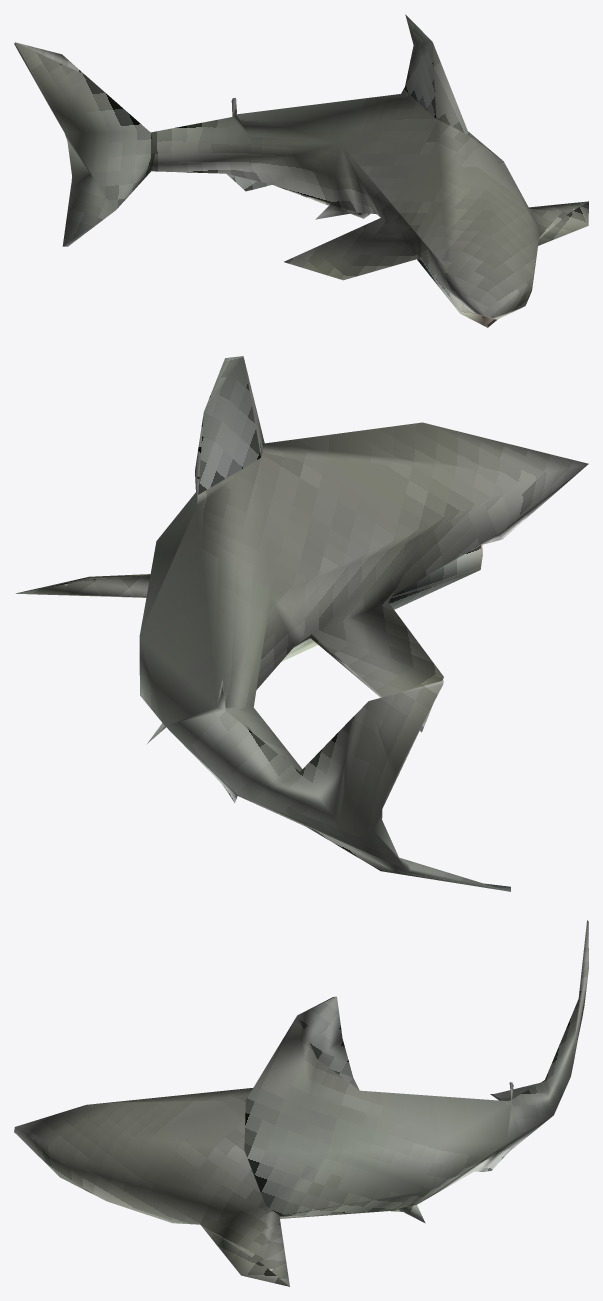
The model's file is Weisshai_Great_White_Shark-low.glb.
The picture shows the model from 3 angles, top to bottom: view 1: azimuth 30°, elevation 25°; view 2: azimuth 150°, elevation 25°; view 3: azimuth 270°, elevation 25°; orthographic projection. The views are drawn at different scales.
Parts seen in each view (by area): view 1: Weisshai_Great_White_Shark; view 2: Weisshai_Great_White_Shark; view 3: Weisshai_Great_White_Shark.
Part boxes in pixels (left/top/right/bottom): Weisshai_Great_White_Shark: left=14, top=14, right=588, bottom=327; Weisshai_Great_White_Shark: left=15, top=356, right=588, bottom=891; Weisshai_Great_White_Shark: left=14, top=920, right=588, bottom=1286.
Size of the model in its own units: 0.1437 by 0.0724 by 0.166.
Materials: 1 (1 with a texture image).
